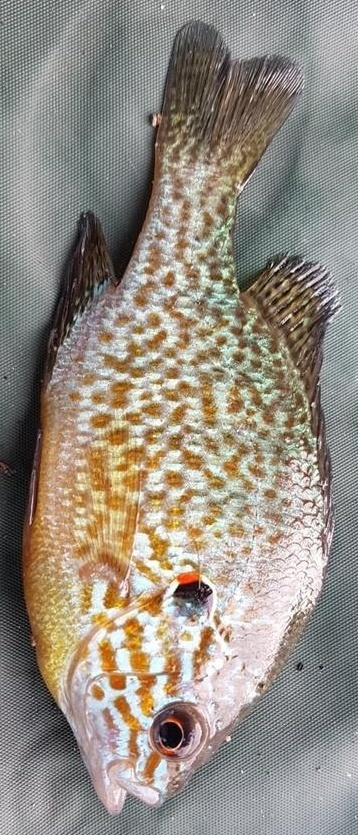Lepomis gibbosus: (20, 20, 338, 815)
